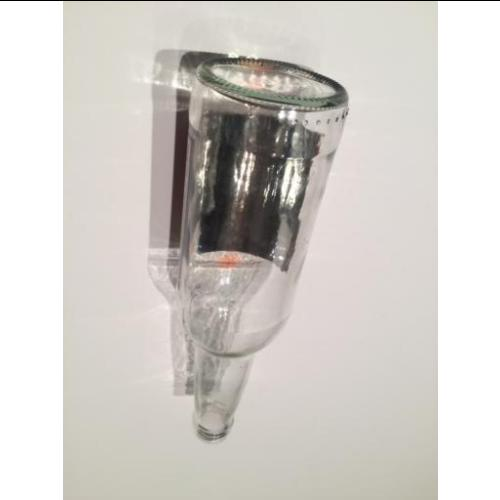glass: (192, 58, 350, 440)
